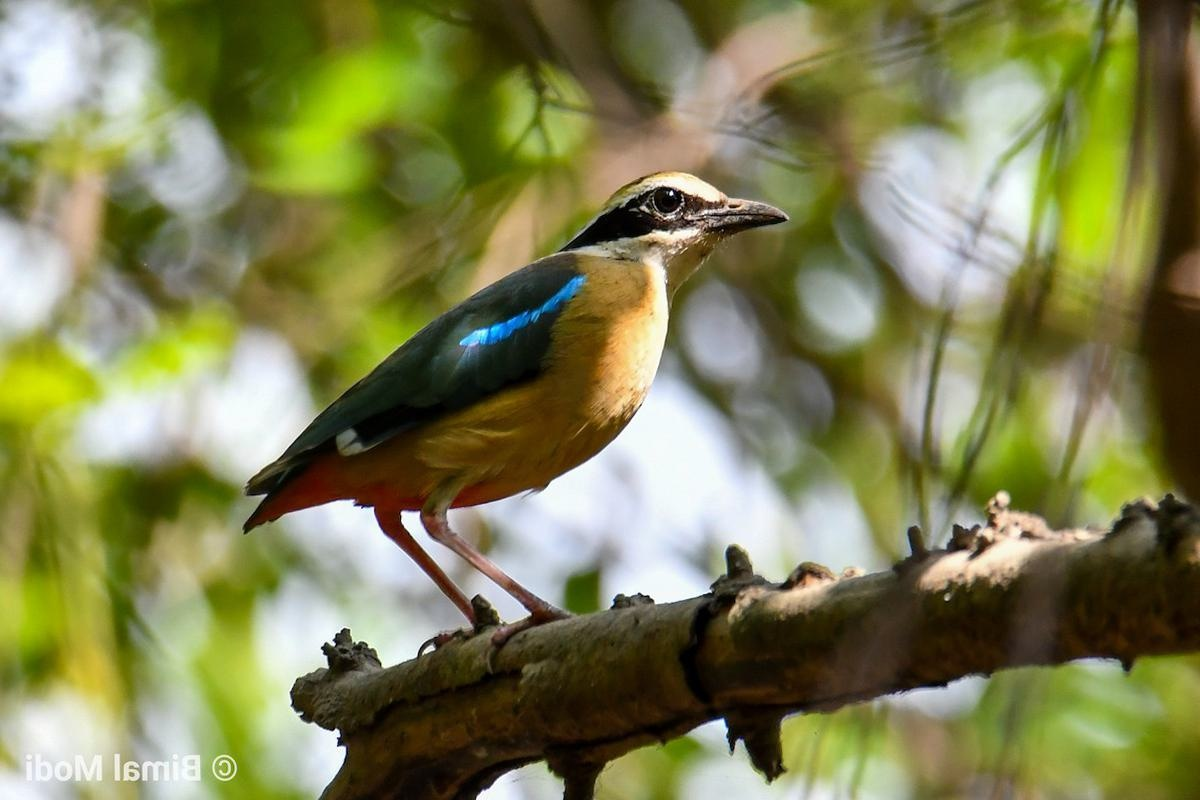pitta: (251, 151, 815, 708)
